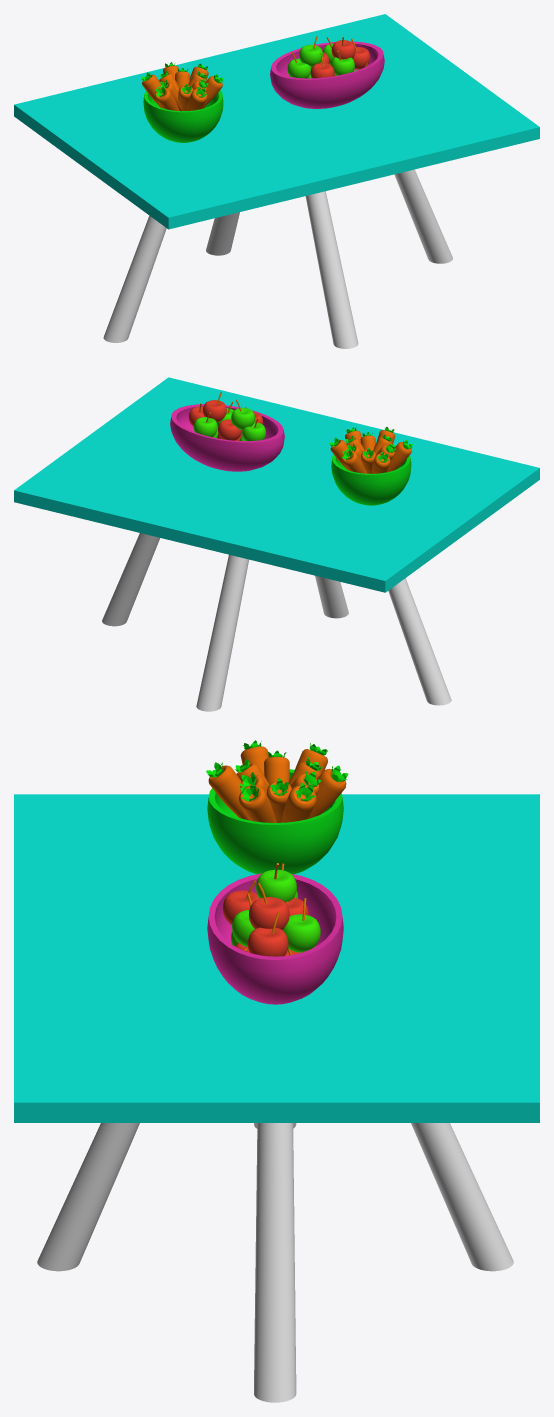
The model's file is DinningTable.fbx.
3 views of the same model, one above another, from view 1: azimuth 30°, elevation 25°; view 2: azimuth 150°, elevation 25°; view 3: azimuth 270°, elevation 25° (orthographic). The views are drawn at different scales.
Parts seen in each view (by area): view 1: Cylinder.004, Sphere.001, Sphere; view 2: Cylinder.004, Sphere.001, Sphere; view 3: Cylinder.004, Sphere.001, Sphere.
Part boxes in pixels (x1=…): Cylinder.004: x1=14, y1=14, x2=539, y2=348; Sphere.001: x1=270, y1=36, x2=384, y2=108; Sphere: x1=141, y1=62, x2=223, y2=142; Cylinder.004: x1=14, y1=377, x2=539, y2=711; Sphere.001: x1=170, y1=392, x2=284, y2=471; Sphere: x1=329, y1=427, x2=412, y2=505; Cylinder.004: x1=14, y1=794, x2=539, y2=1402; Sphere.001: x1=207, y1=863, x2=343, y2=1004; Sphere: x1=206, y1=740, x2=348, y2=874.
Bounding box in the file's own units: 32.07 × 20.77 × 23.11.
